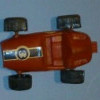rojo: (2, 18, 97, 86)
